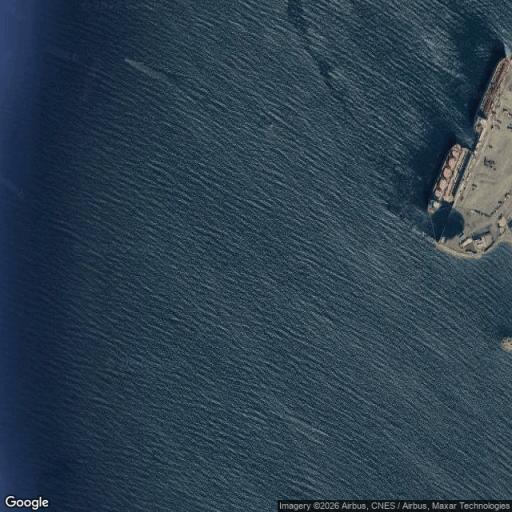ship: (471, 50, 511, 135), (428, 144, 468, 214)
